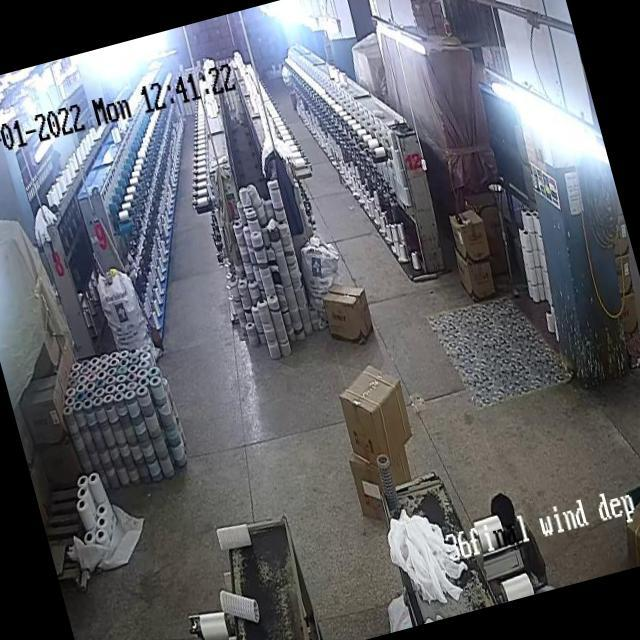person: (485, 492, 531, 556)
